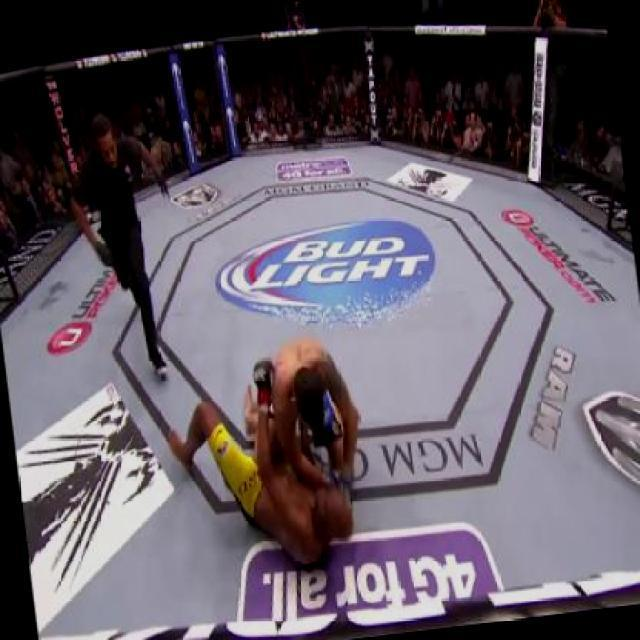fight: (161, 330, 377, 586)
